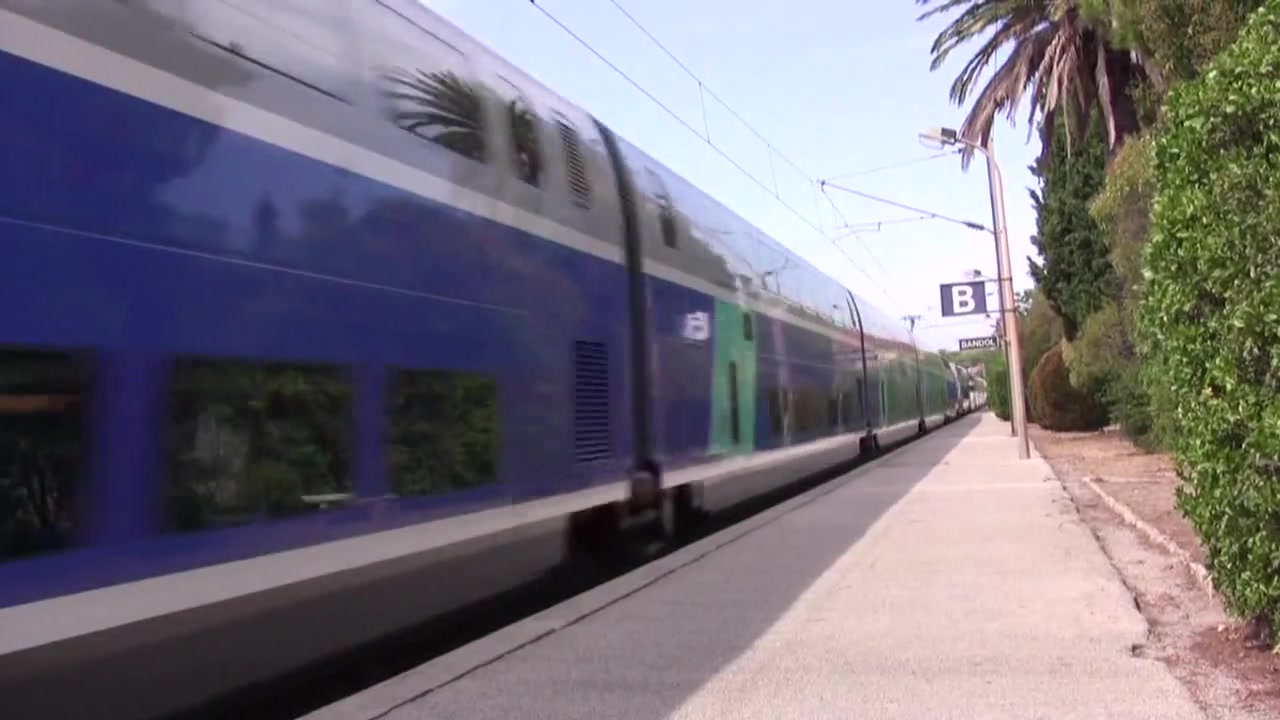train: (1, 1, 983, 720)
